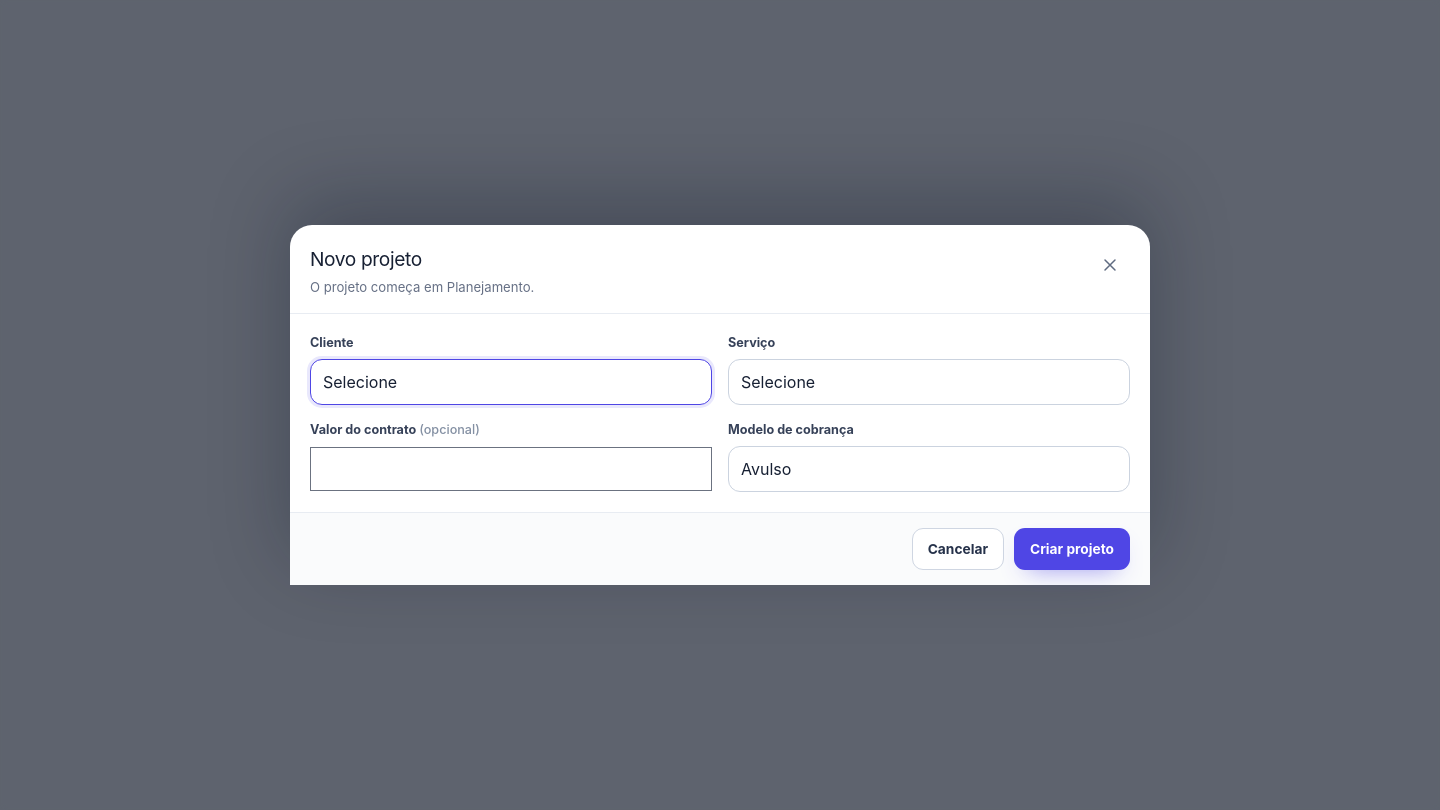
Test case: ProjetoFormDialog › exige os campos de recorrência apenas no modelo mensal
The width and height of the screenshot is (1440, 810).
Select "Ana" in the dropdown labelled "Cliente": [511, 382] box [310,359,712,405]
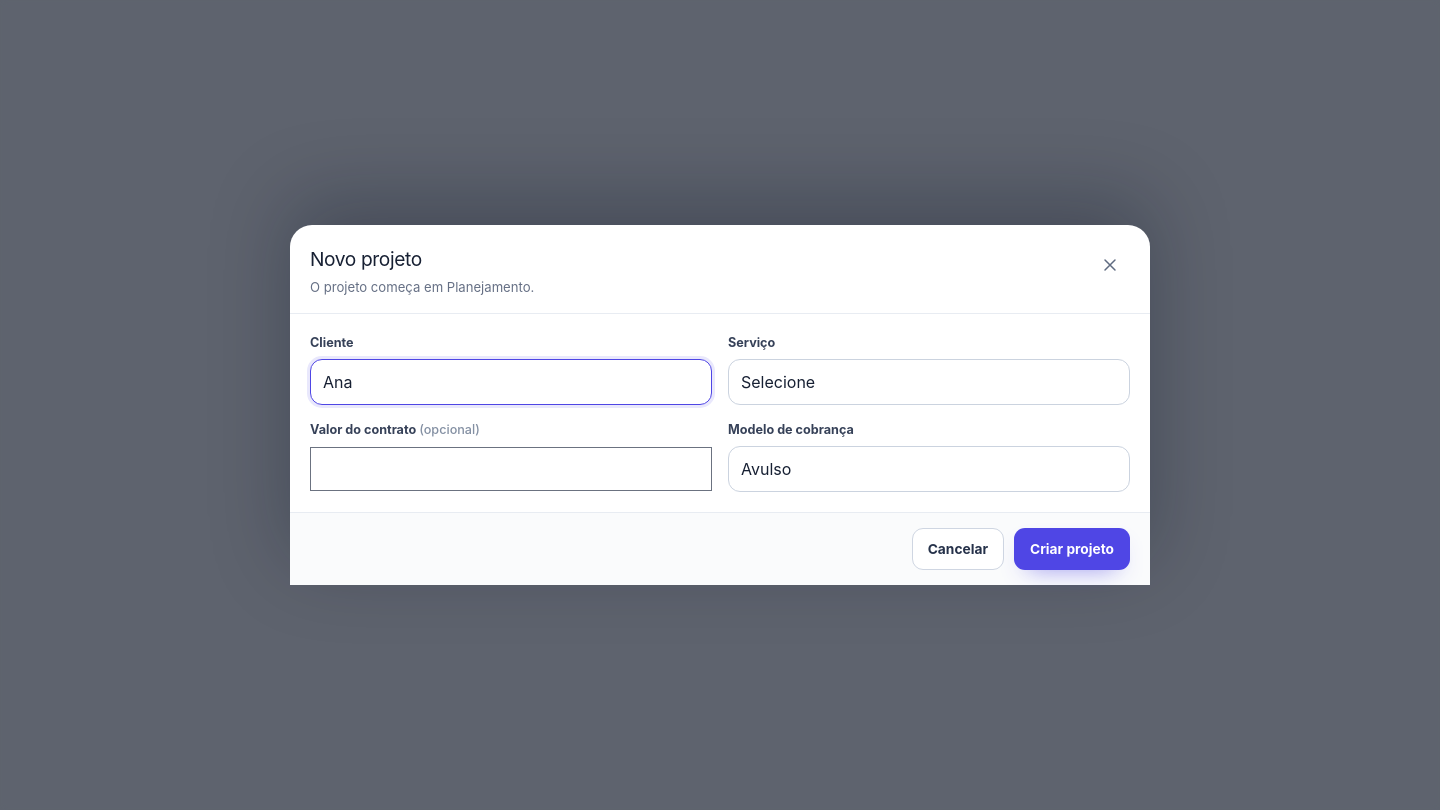
Select "Site" in the dropdown labelled "Serviço": [929, 382] box [728,359,1130,405]
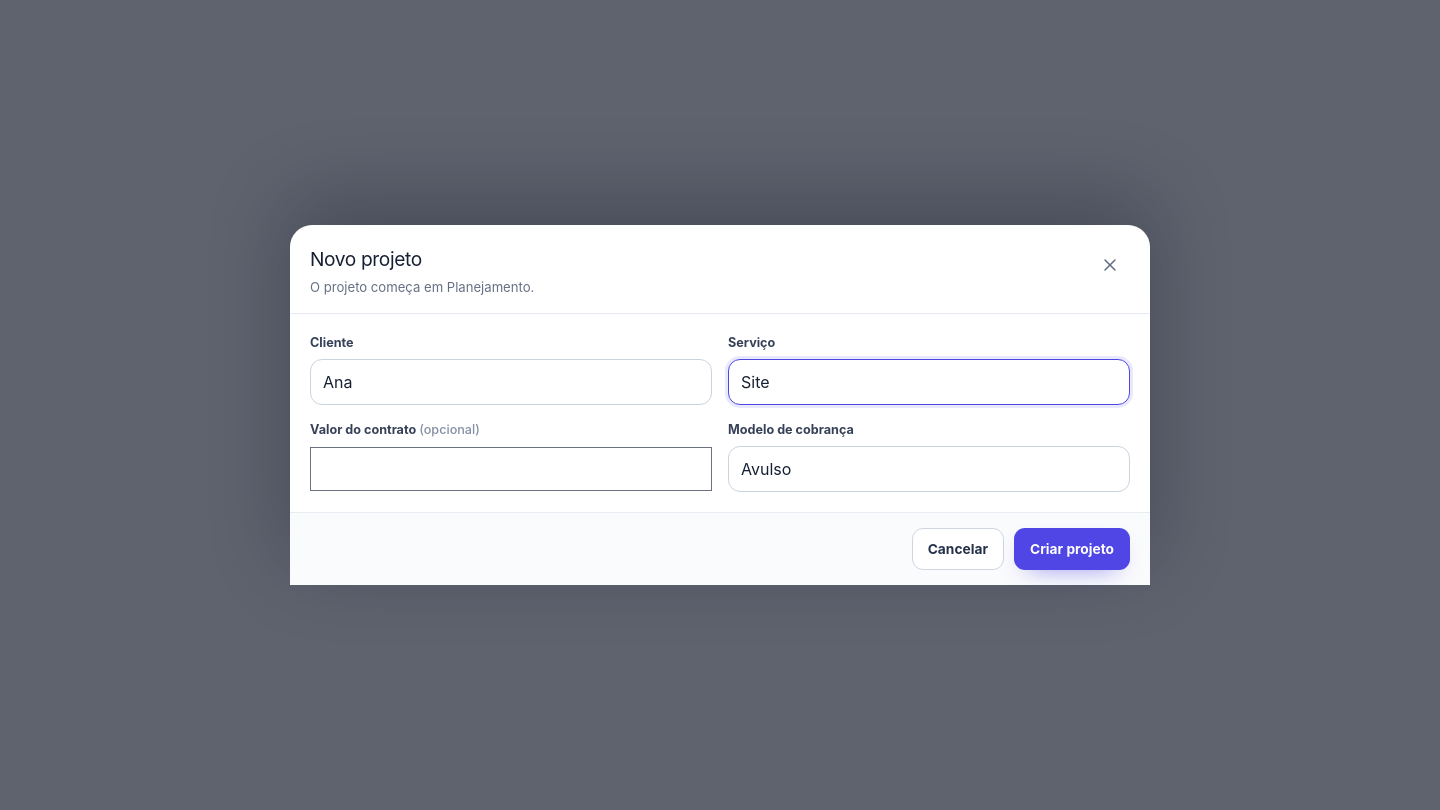
Select "Mensal recorrente" in the dropdown labelled "Modelo de cobrança": [929, 469] box [728,446,1130,492]
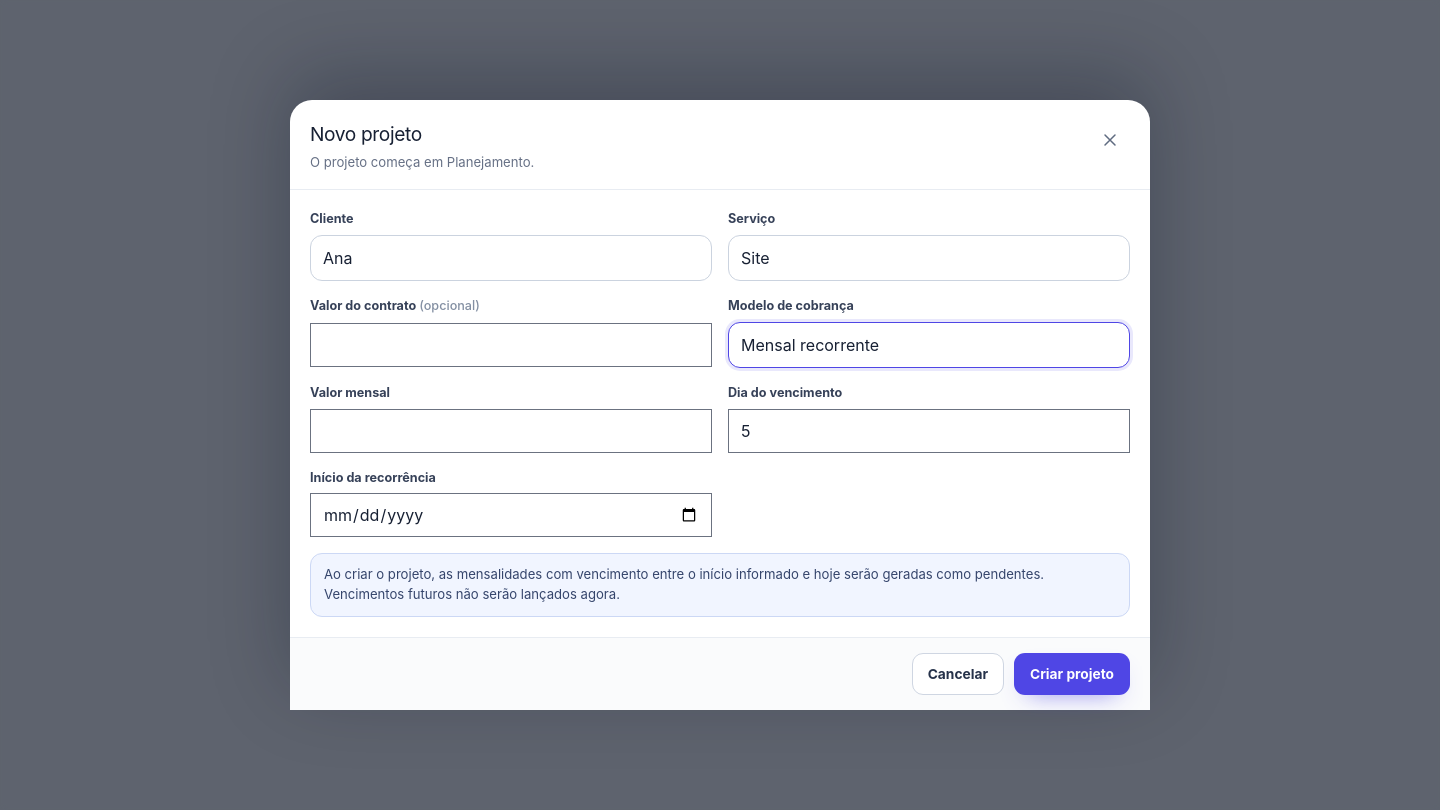
Now the number field labelled "Valor mensal" is shown, box [310,408,712,452]
Now the date field labelled "Início da recorrência" is shown, box [310,494,712,538]
Click the button "Criar projeto": [1072, 674] box [1014,653,1130,695]
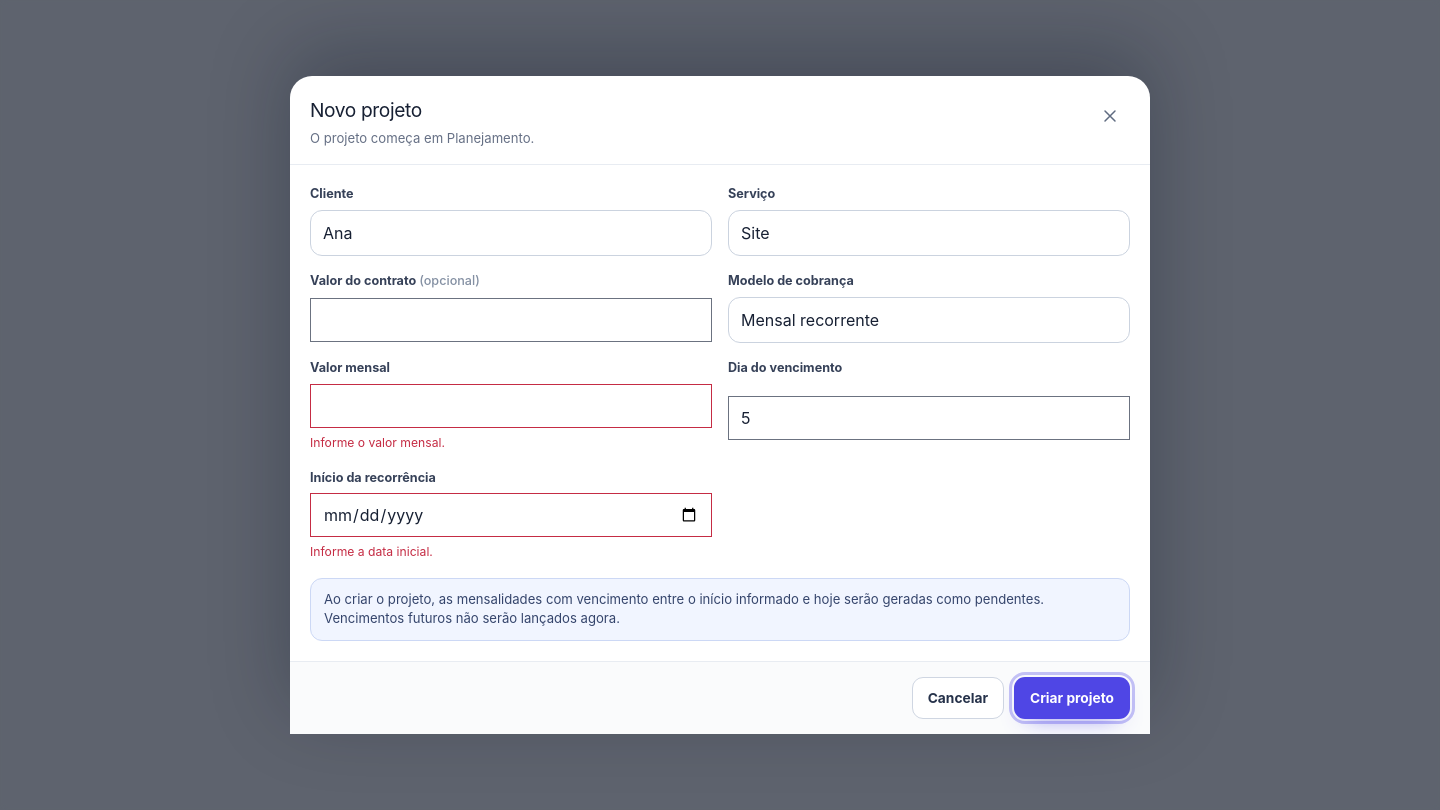
Now the text "Informe o valor mensal." is shown, box [310,435,445,450]
Now the text "Informe a data inicial." is shown, box [310,544,433,560]
